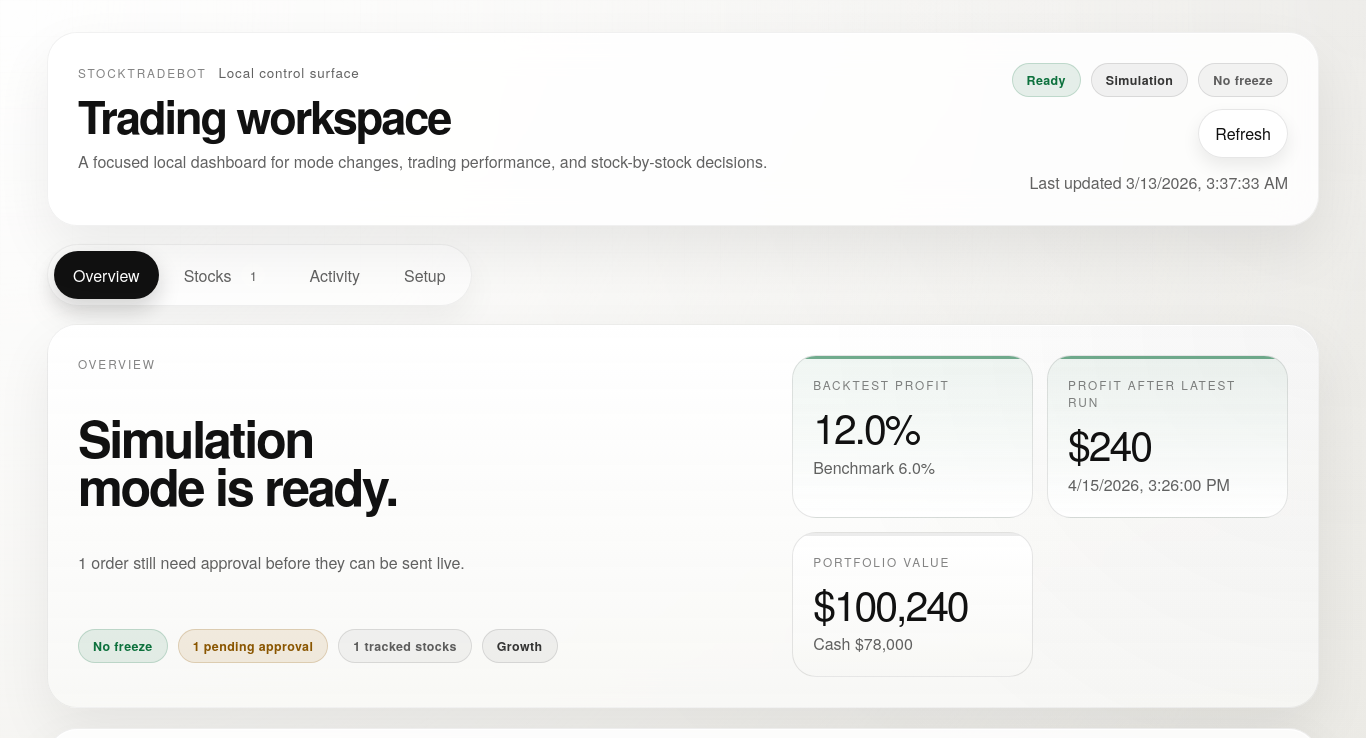
Test: App › shows recent system activity on the activity screen
The image size is (1366, 738).
Click the button "Activity" at [335, 275], box 290,251 -> 379,299
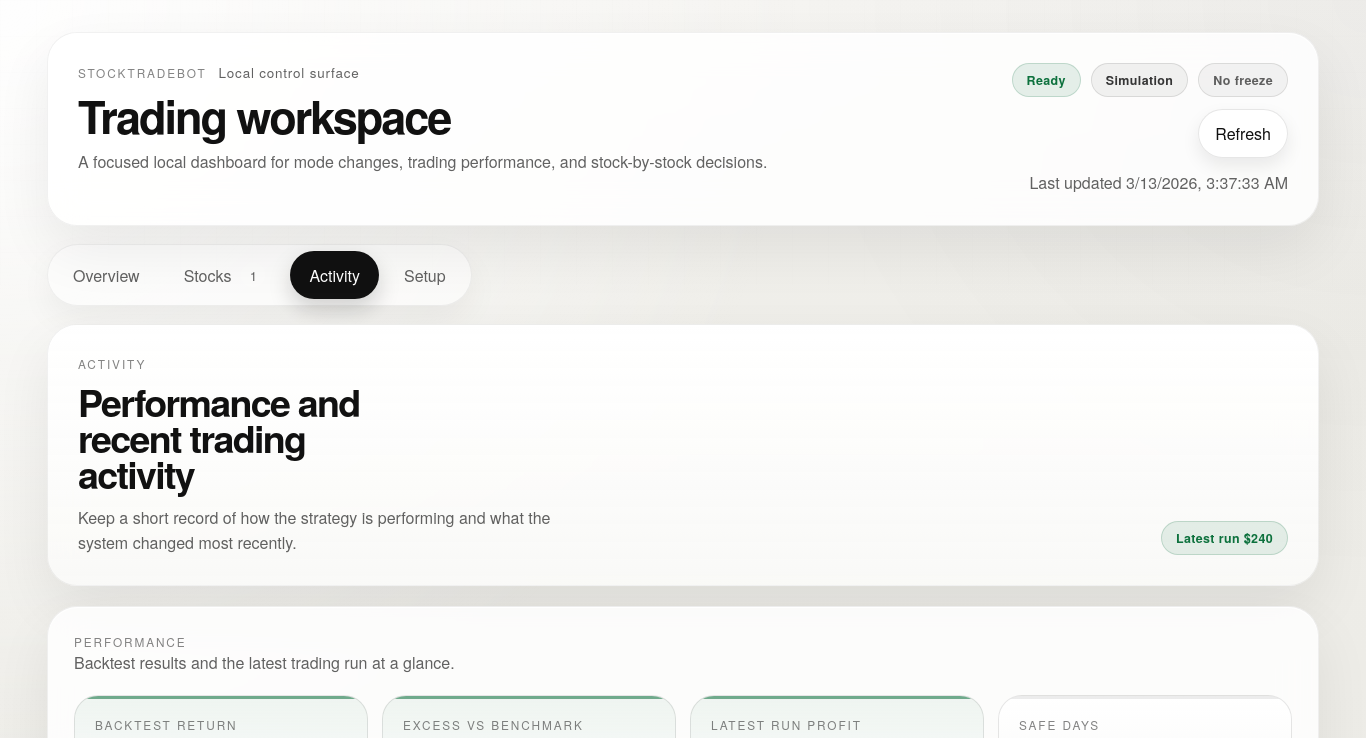
Result: the text "Performance" is shown at 74,633 -> 186,650
